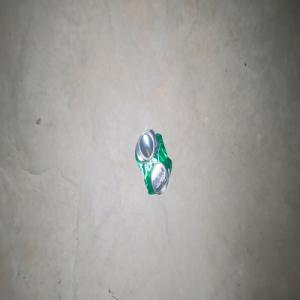SodaCan: (134, 128, 172, 195)
